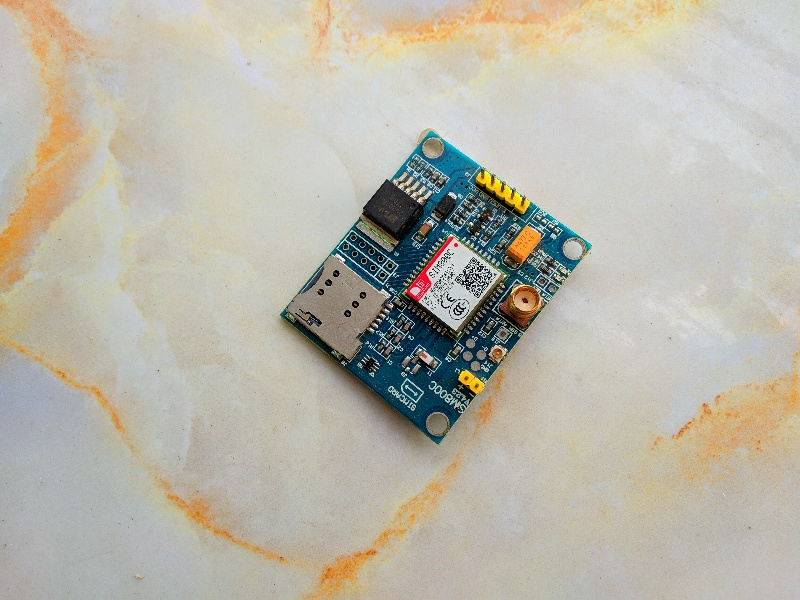SIM800: (281, 122, 593, 446)
